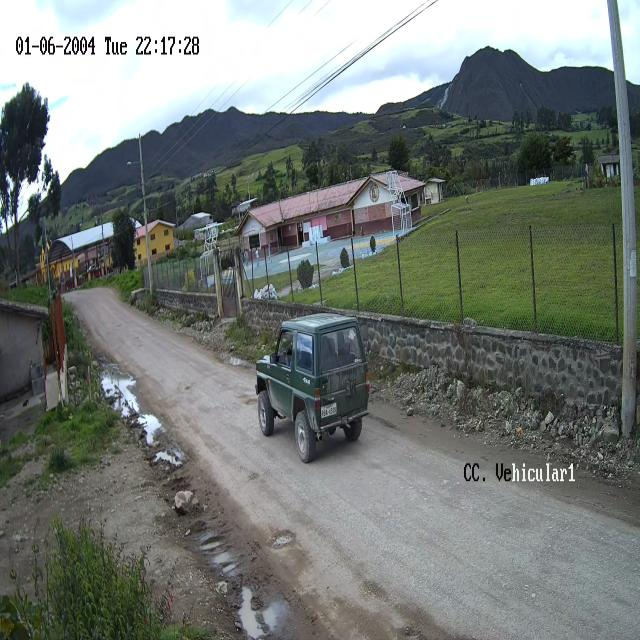SUV: (255, 316, 369, 464)
